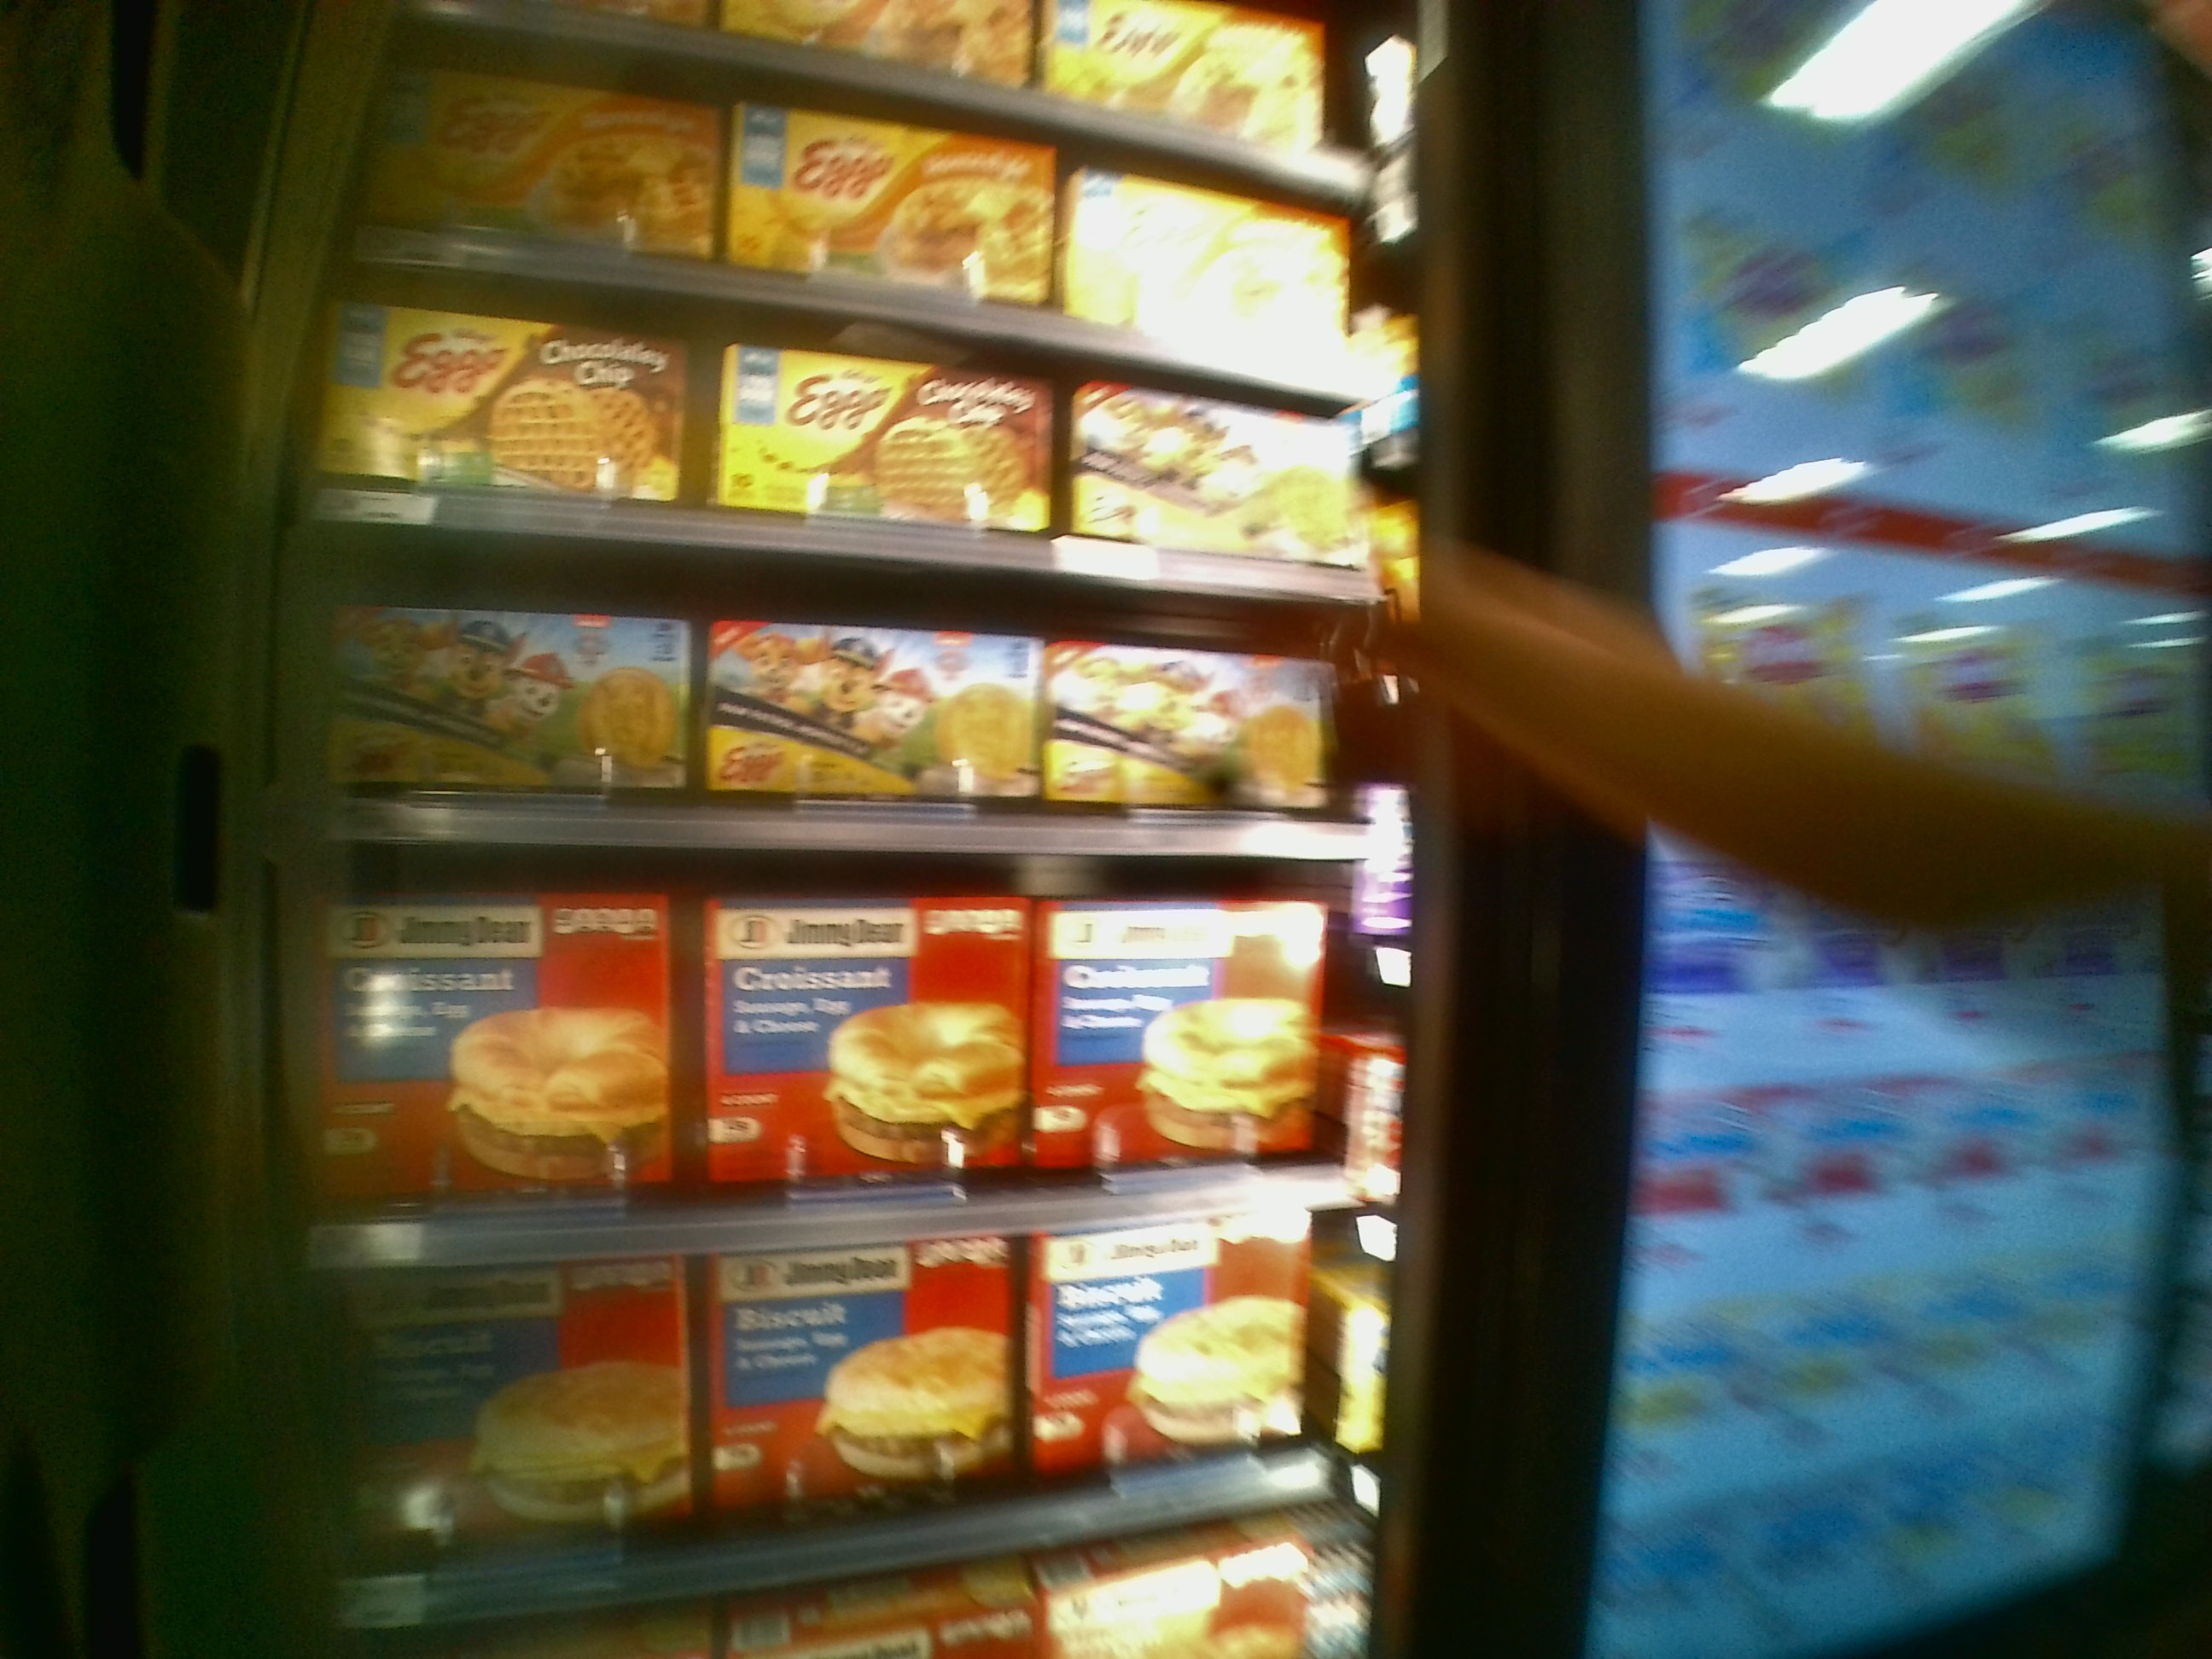shelf: (307, 849, 1456, 1258)
